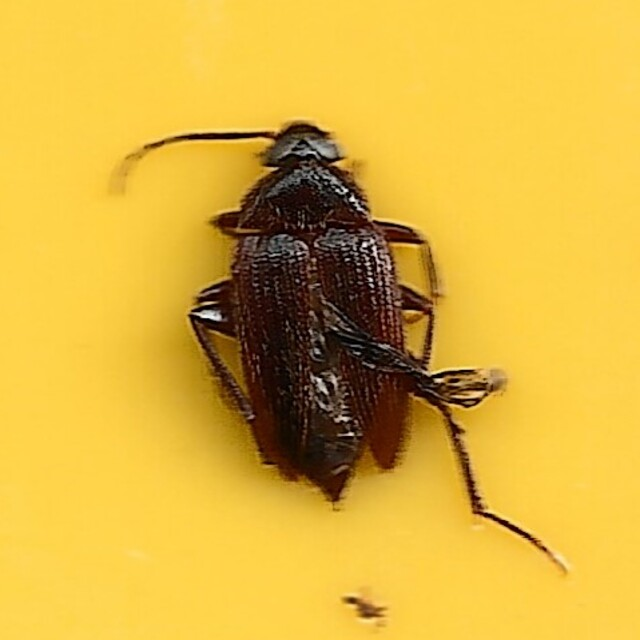Coleoptera: (134, 120, 506, 520)
